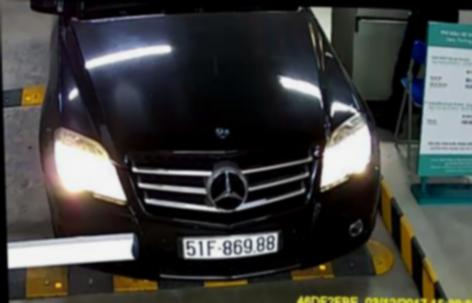License_Plate: (178, 231, 284, 264)
